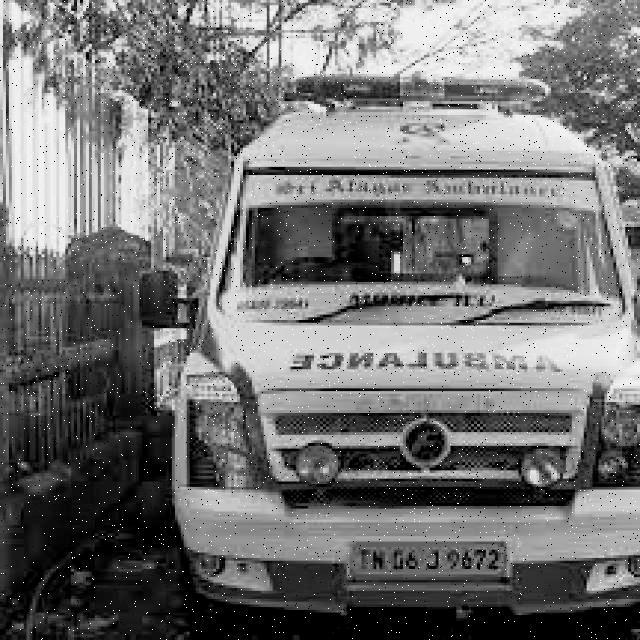LCV: (142, 74, 640, 616)
